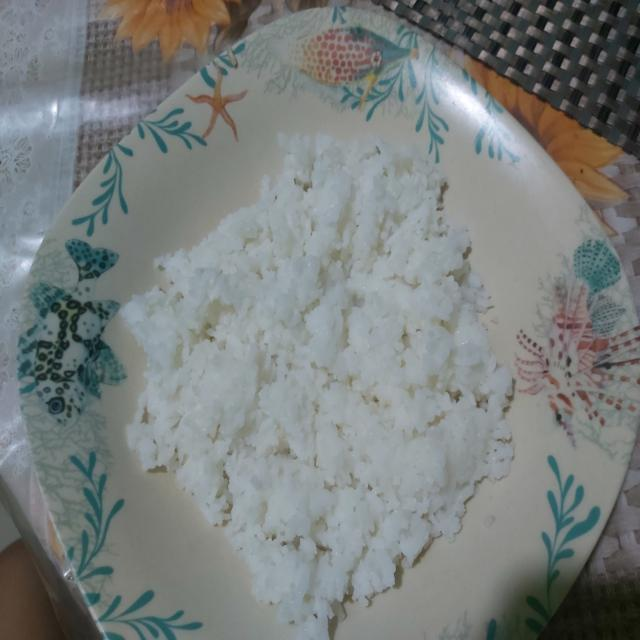Chicken -Chicken Inasal-: (126, 131, 516, 605)
